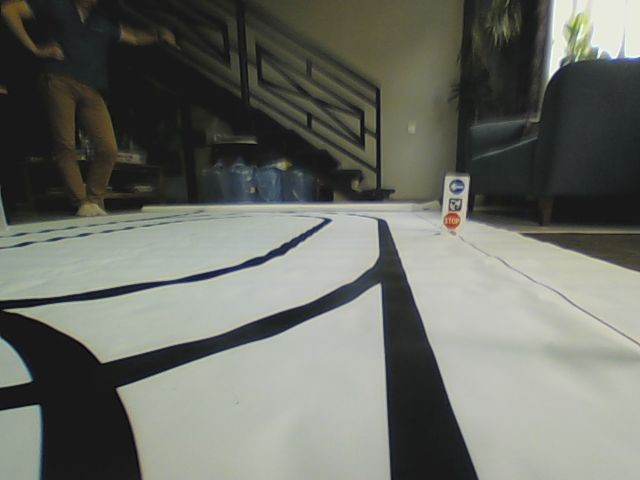Stop: (443, 212, 461, 230)
